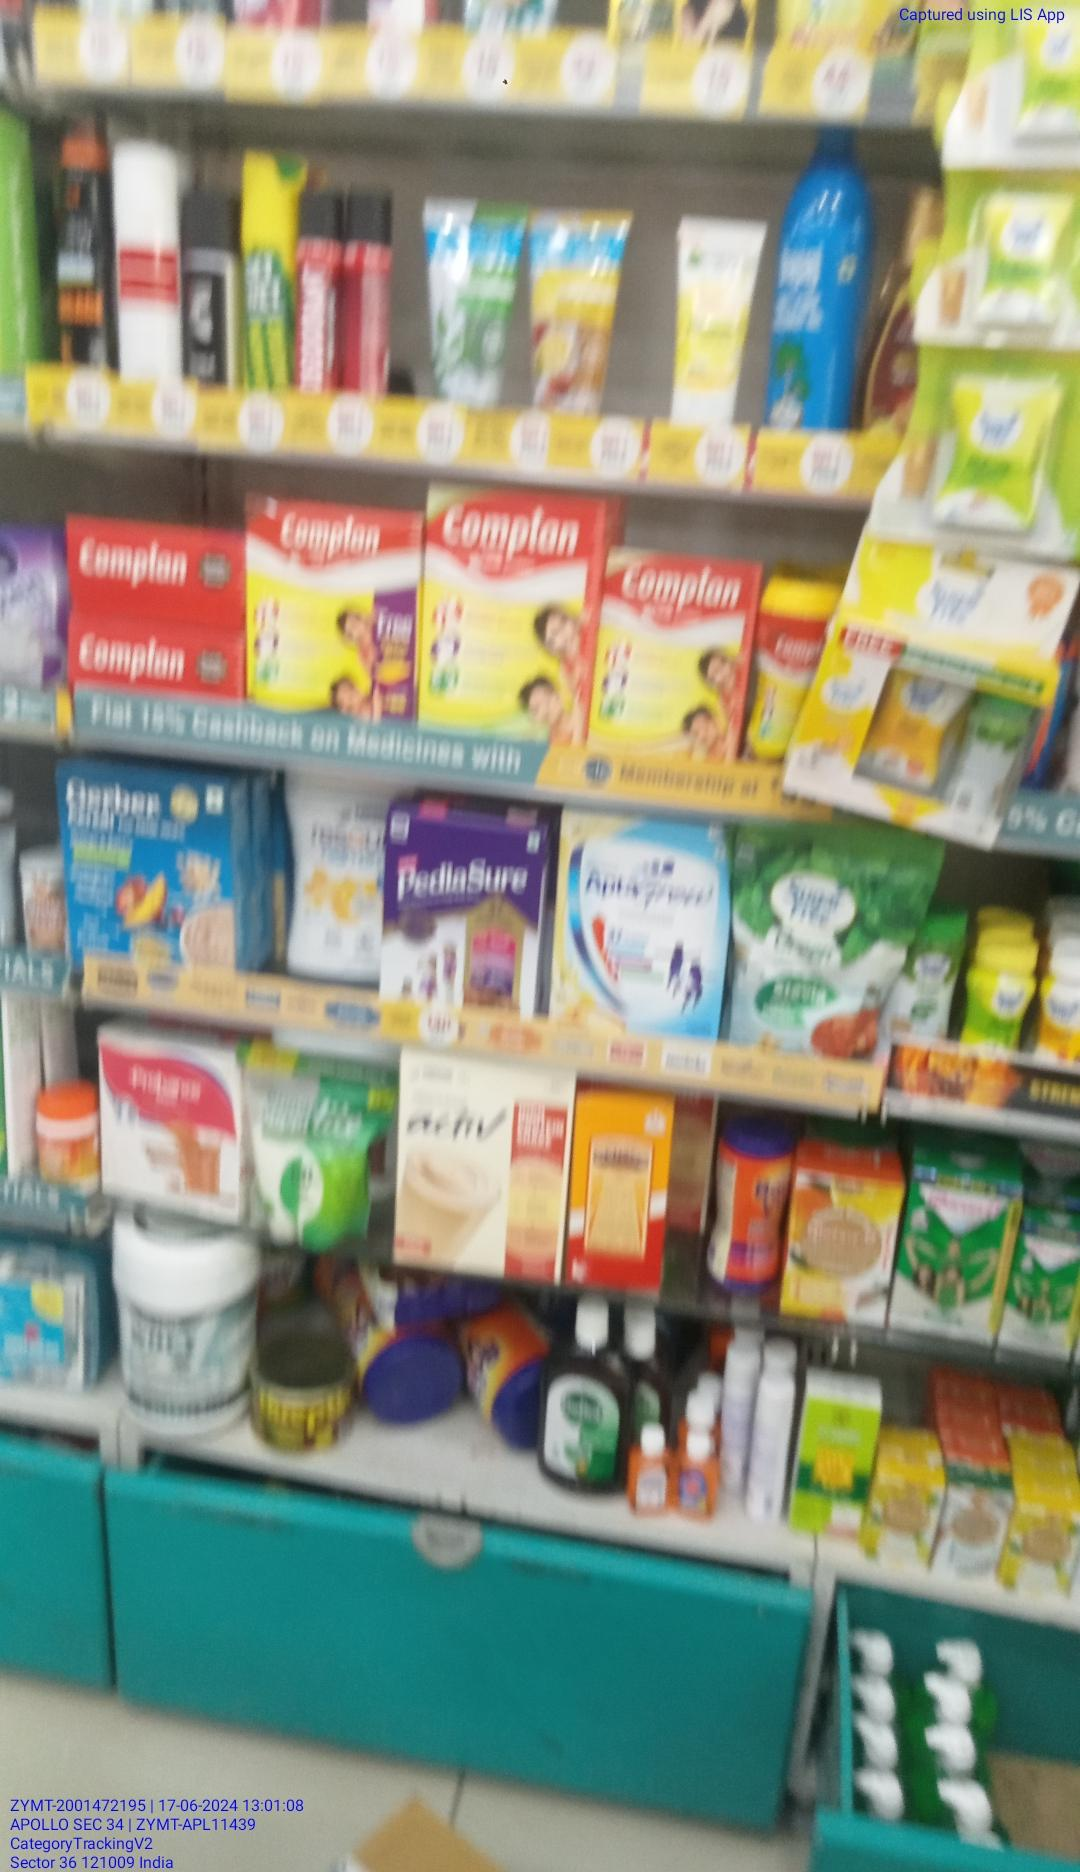PEDIASURE_CHOCOLATE_500_G_PACK: (384, 814, 539, 1016)
